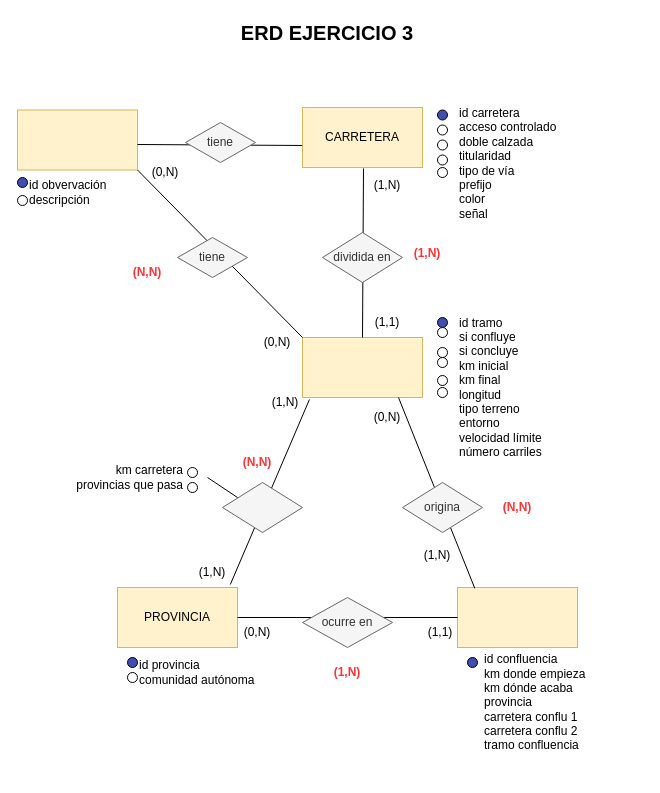
Some shapes in this 660 by 793 pixel diagram are drawn without their labels. Each missing label, with the box of its shape:
CONFLUENCIA: (456, 586, 578, 648)
OBSERVACIÓN: (16, 109, 138, 170)
pasa por: (222, 482, 302, 532)
TRAMO: (302, 336, 422, 398)
